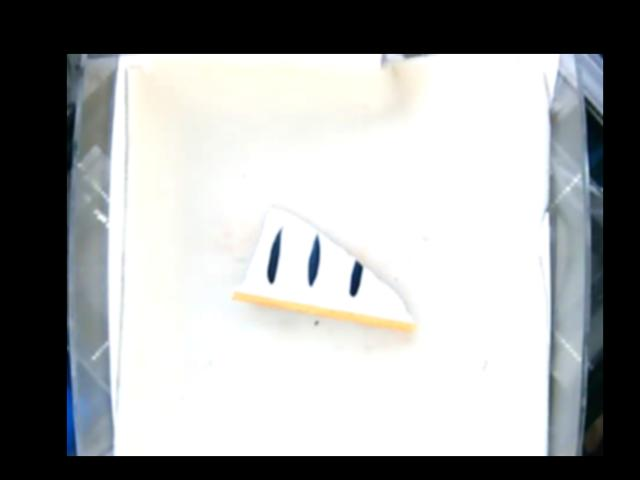China: (230, 205, 421, 332)
